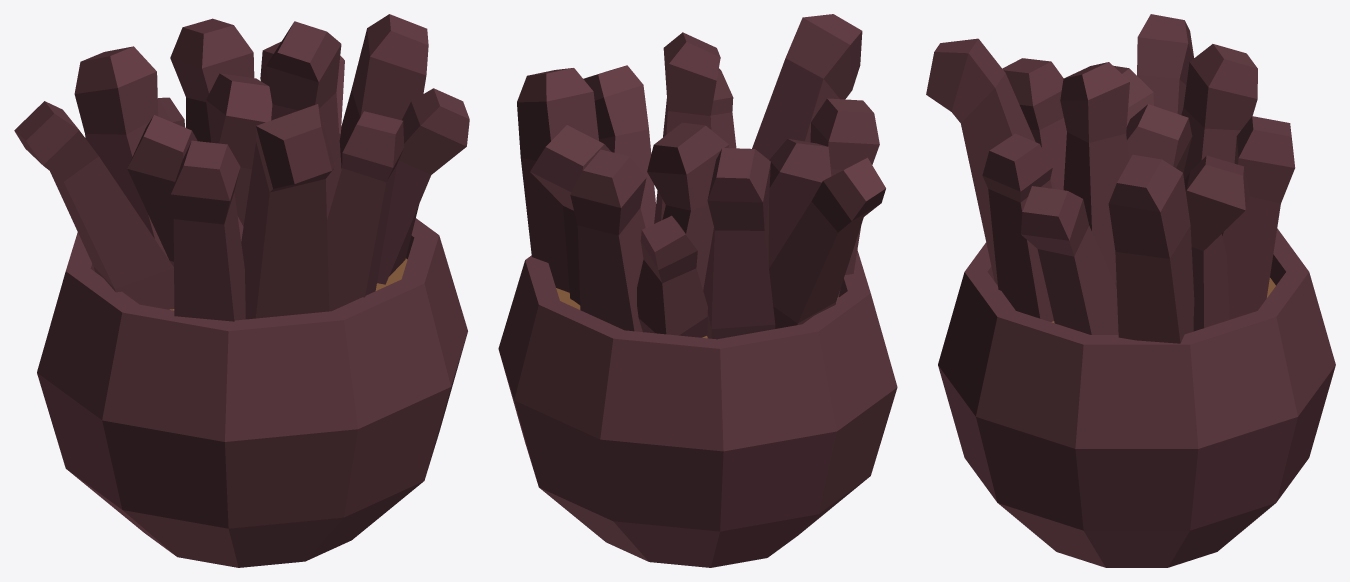
File: furniture-pot-tiny-succulent-c.glb
3 renders of one model, left to right at view 1: azimuth 30°, elevation 25°; view 2: azimuth 150°, elevation 25°; view 3: azimuth 270°, elevation 25°, orthographic. The views are drawn at different scales.
Parts seen in each view (by area): view 1: pot-tiny-succulent-c; view 2: pot-tiny-succulent-c; view 3: pot-tiny-succulent-c.
Part boxes in pixels (box(x1,y1,x2,y2)): pot-tiny-succulent-c: box(14, 14, 469, 567); pot-tiny-succulent-c: box(498, 14, 897, 567); pot-tiny-succulent-c: box(926, 14, 1335, 567).
Size of the model in its own units: 0.1306 by 0.1585 by 0.1236.
